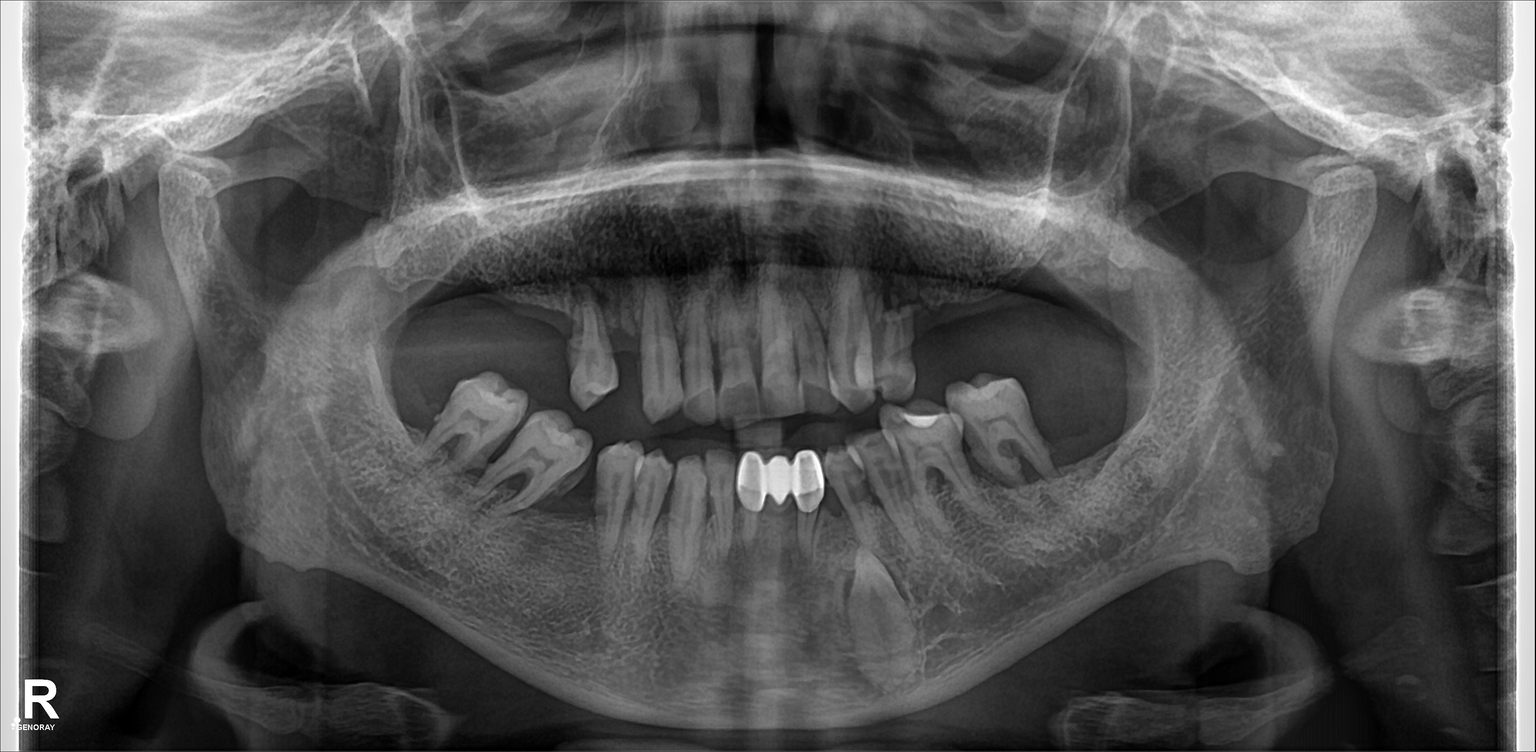Dental Caries: (1000, 434, 1046, 489), (730, 382, 760, 419)
Endodontically Treated Tooth: (737, 460, 767, 547), (767, 452, 791, 539), (799, 456, 824, 539)
Missing Tooth: (1054, 382, 1119, 475), (607, 307, 656, 411), (918, 294, 967, 381), (974, 285, 1024, 365), (1030, 261, 1068, 361), (417, 275, 462, 356), (404, 378, 444, 457), (534, 289, 571, 371), (497, 287, 535, 365), (464, 277, 499, 359), (574, 460, 594, 566)
